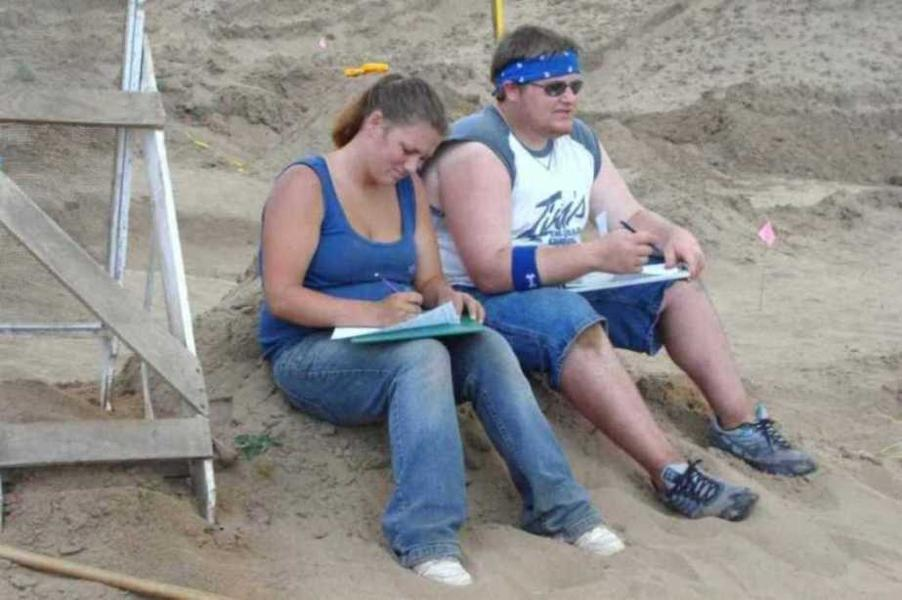person: (257, 69, 625, 587)
